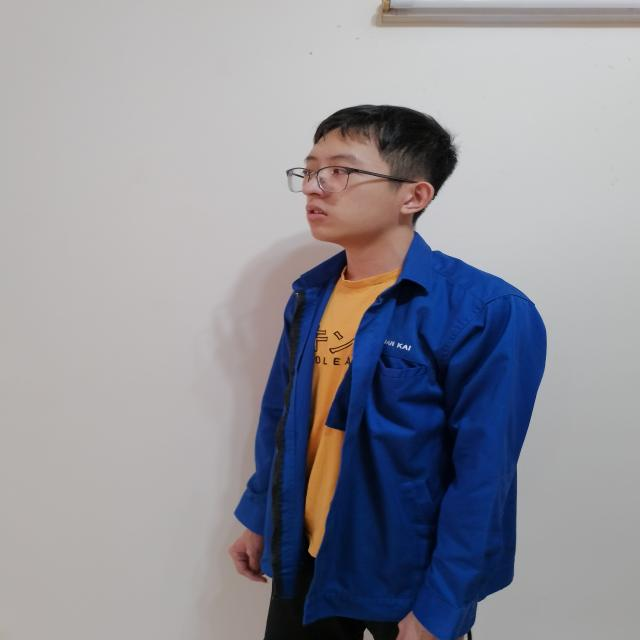person_with_labcoat: (230, 105, 546, 640)
